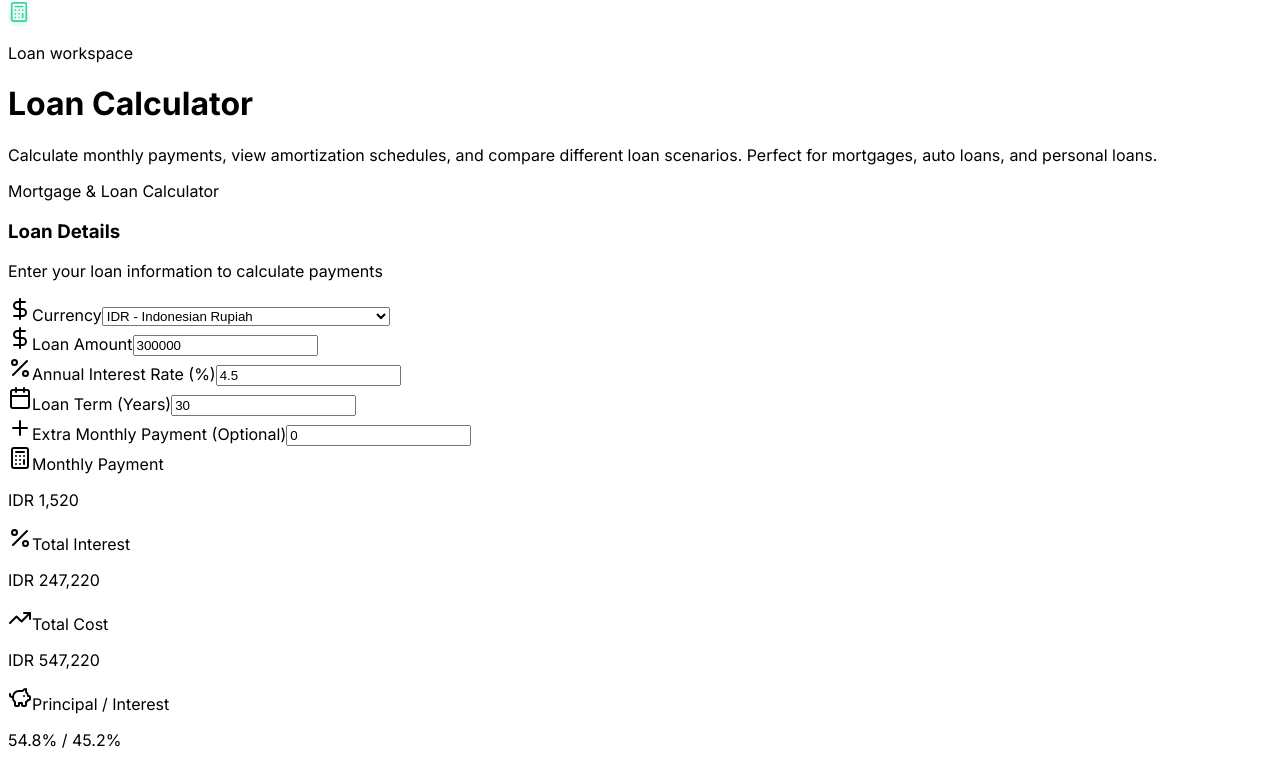
Test: Loan Calculator Page › Extra Payments › shows extra payment benefits when extra payment is added
Type "500" into the number field labelled "Extra Monthly Payment (Optional)" at point(379, 436), box [286,425,471,446]
(page scrolled)
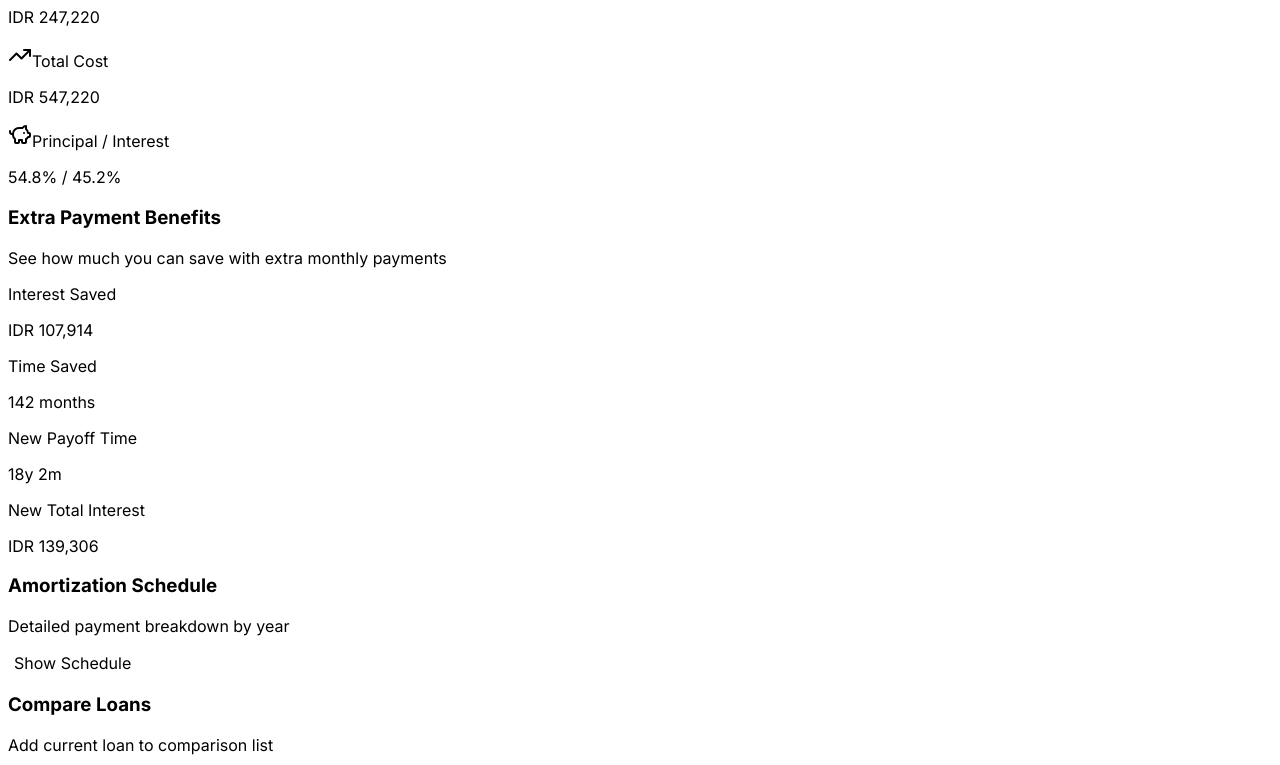
Check: the heading "Extra Payment Benefits" is shown, box [8,206,221,229]
Check: the text "Interest Saved" is shown, box [8,284,116,304]
Check: the text "Time Saved" is shown, box [8,356,97,376]
